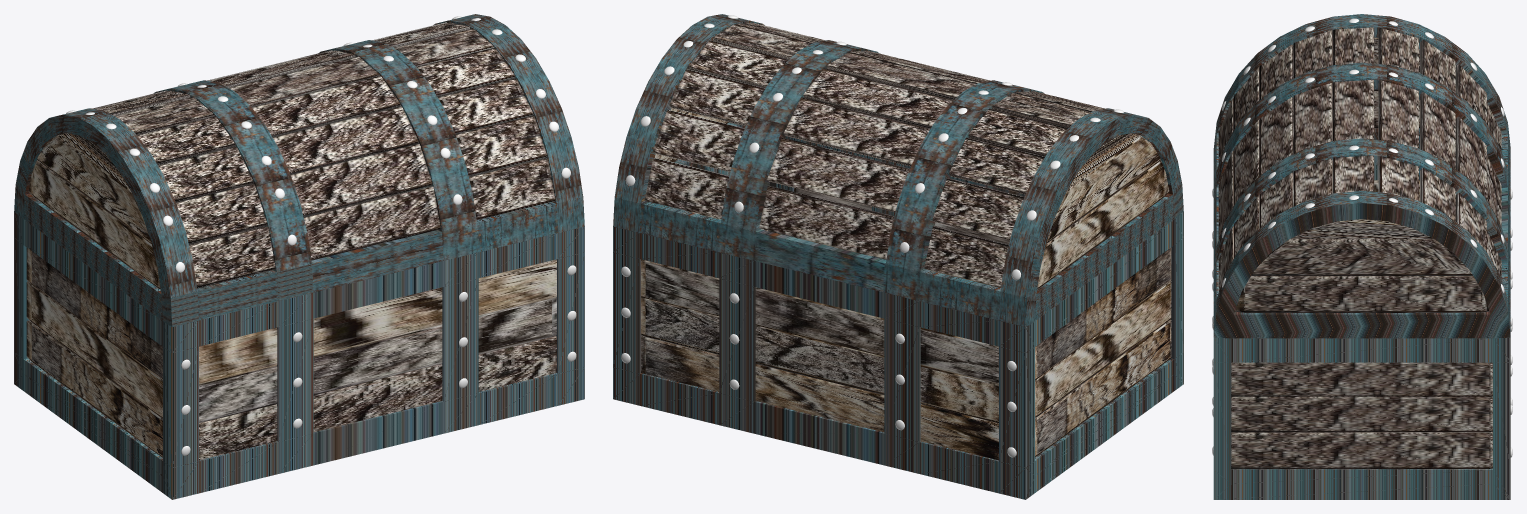
File: blender chust.glb
3 views of the same model, side by side, from view 1: azimuth 30°, elevation 25°; view 2: azimuth 150°, elevation 25°; view 3: azimuth 270°, elevation 25° (orthographic). The views are drawn at different scales.
Parts seen in each view (by area): view 1: Cube.053, Cylinder.002, Cylinder.001, Cube.005, Cube.041, Sphere.003; view 2: Cube.053, Cylinder.002, Cylinder.001, Cube.012, Cube.041, Sphere.003, Cube.005; view 3: Cylinder.001, Cube.053, Cube.011, Cylinder.002, Cube.044, Sphere.003, Cube.041.
Boxes of the visible parts, x1=… form: Cube.053: x1=93, y1=22, x2=555, y2=288; Cylinder.002: x1=14, y1=171, x2=584, y2=499; Cylinder.001: x1=14, y1=14, x2=584, y2=326; Cube.005: x1=199, y1=259, x2=556, y2=460; Cube.041: x1=26, y1=133, x2=162, y2=457; Sphere.003: x1=66, y1=16, x2=576, y2=455; Cube.053: x1=644, y1=23, x2=1104, y2=287; Cylinder.002: x1=613, y1=136, x2=1183, y2=499; Cylinder.001: x1=613, y1=14, x2=1183, y2=326; Cube.012: x1=641, y1=259, x2=998, y2=460; Cube.041: x1=1035, y1=133, x2=1171, y2=457; Sphere.003: x1=621, y1=15, x2=1124, y2=457; Cube.005: x1=794, y1=187, x2=1009, y2=287; Cylinder.001: x1=1213, y1=14, x2=1510, y2=338; Cube.053: x1=1218, y1=27, x2=1501, y2=292; Cube.011: x1=1231, y1=362, x2=1492, y2=469; Cylinder.002: x1=1213, y1=165, x2=1510, y2=499; Cube.044: x1=1235, y1=219, x2=1489, y2=312; Sphere.003: x1=1212, y1=18, x2=1512, y2=457; Cube.041: x1=1374, y1=37, x2=1419, y2=201.
Bounding box in the file's own units: 3.01 × 2.21 × 2.02.
Materials: 6 (5 with a texture image).
